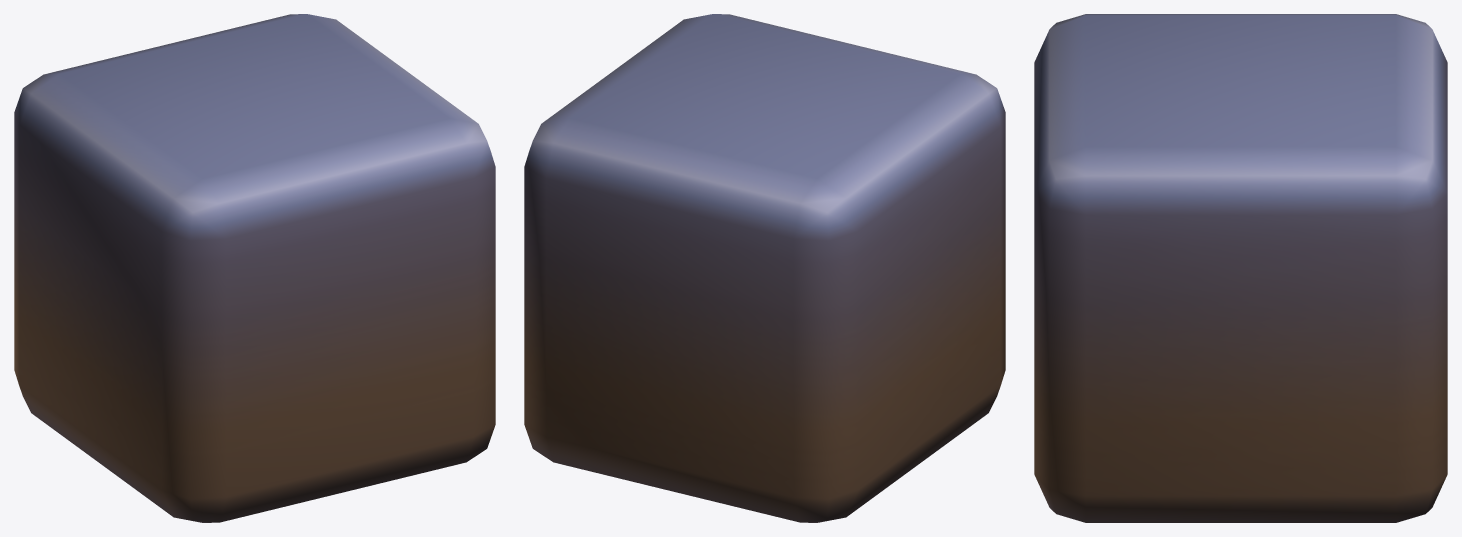
Rendered from block_rock_2_0.fbx.
The picture shows the model from 3 angles, left to right: view 1: azimuth 30°, elevation 25°; view 2: azimuth 150°, elevation 25°; view 3: azimuth 270°, elevation 25°; orthographic projection. The views are drawn at different scales.
Parts seen in each view (by area): view 1: block_rock_2_0; view 2: block_rock_2_0; view 3: block_rock_2_0.
Part boxes in pixels (<box>): block_rock_2_0: <box>14,14,495,522</box>; block_rock_2_0: <box>524,14,1005,522</box>; block_rock_2_0: <box>1034,14,1447,522</box>.
Size of the model in its own units: 200 by 200 by 200.
